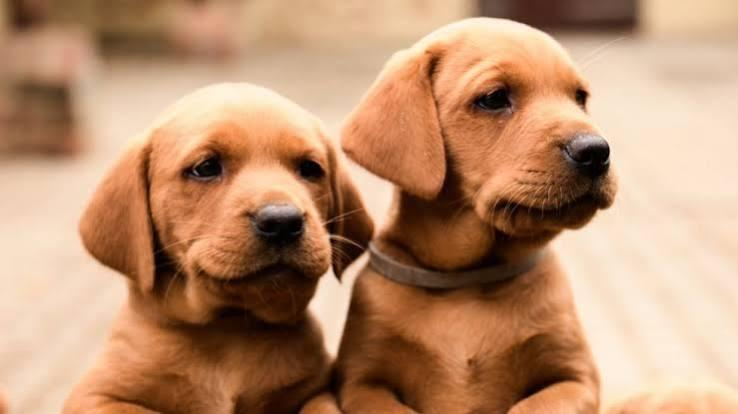puppy-dog: (336, 16, 620, 414), (60, 83, 375, 414)
